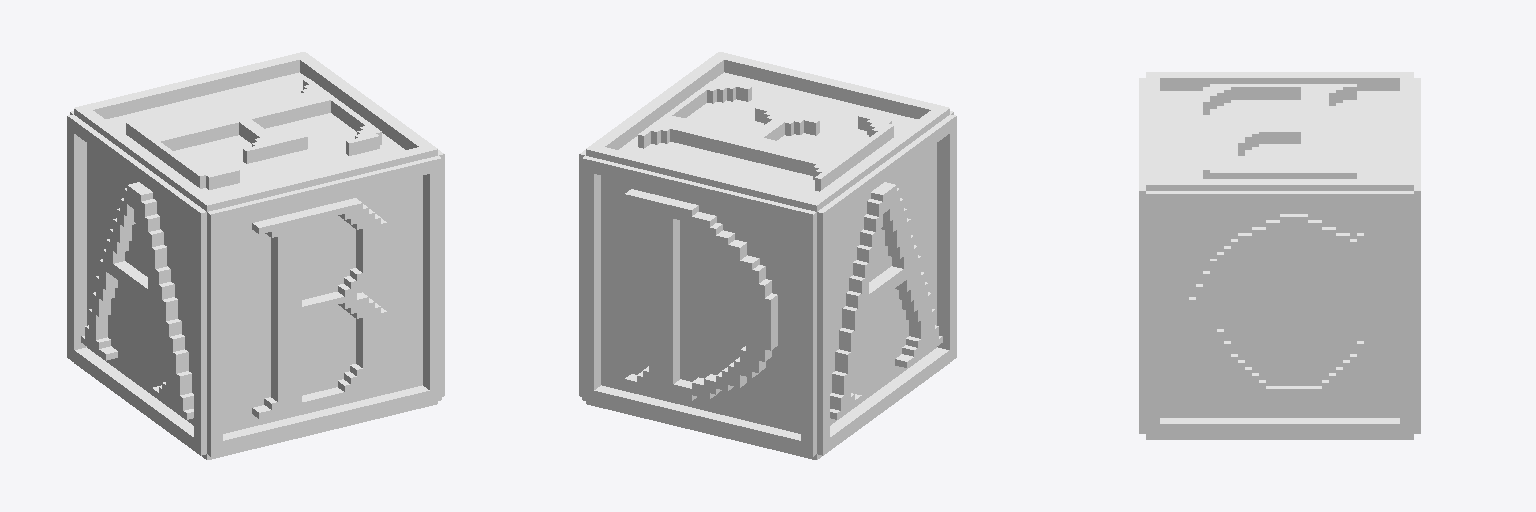
Rendered from blocoDeMontar.obj.
3 renders of one model, left to right at view 1: azimuth 30°, elevation 25°; view 2: azimuth 150°, elevation 25°; view 3: azimuth 270°, elevation 25°, orthographic.
Parts seen in each view (by area): view 1: object 1; view 2: object 1; view 3: object 1.
Boxes of the visible parts, <box> form: object 1: <box>67,52,444,459</box>; object 1: <box>579,52,956,459</box>; object 1: <box>1139,72,1420,439</box>.
Bounding box in the file's own units: 4 × 4 × 4.